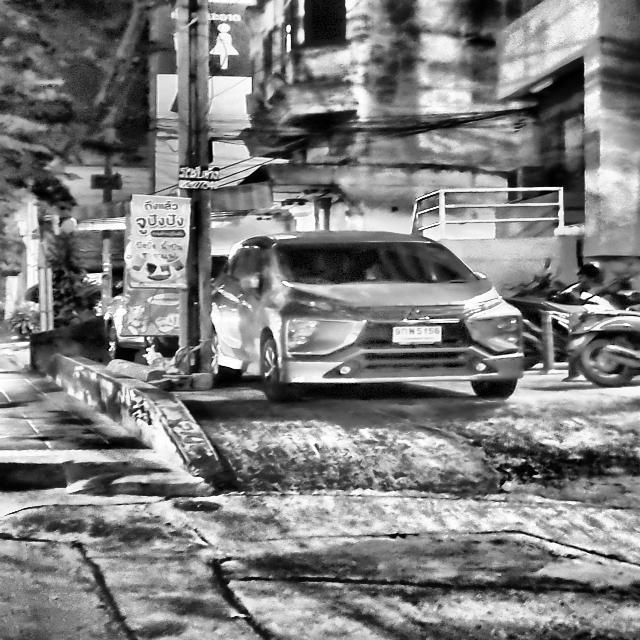license-plate: (387, 325, 447, 346)
